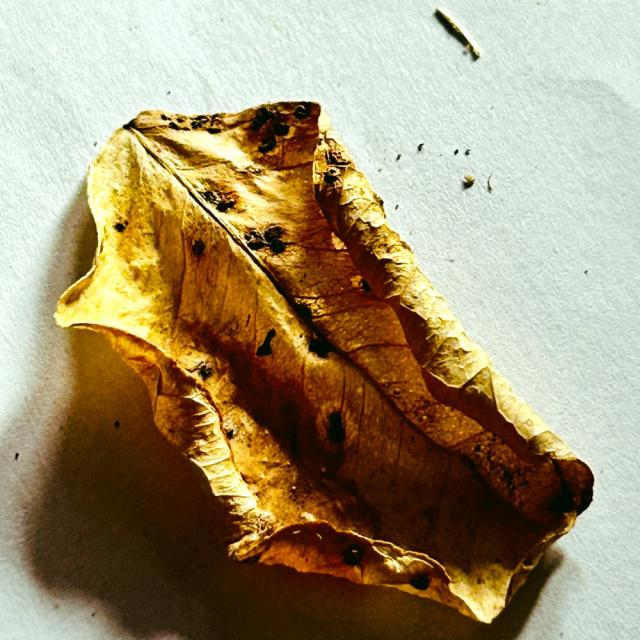DryLeaf_Lemon: (55, 101, 593, 623)
